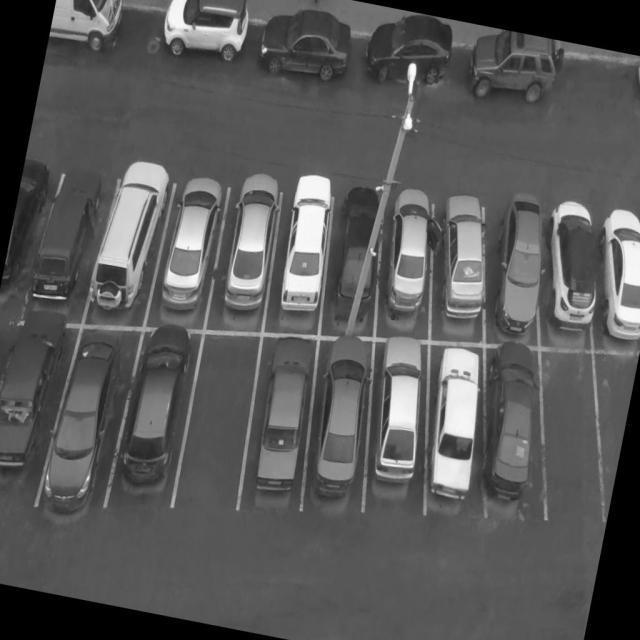space-empty: (172, 322, 270, 522), (520, 342, 615, 530), (565, 329, 640, 540)
space-occupied: (34, 312, 143, 537), (105, 308, 211, 532), (288, 325, 388, 540), (353, 325, 446, 533), (233, 323, 326, 526), (78, 150, 185, 326), (0, 300, 82, 523), (408, 331, 494, 541), (465, 340, 557, 525), (26, 158, 122, 324), (202, 162, 293, 337), (524, 186, 618, 355), (144, 168, 236, 322), (265, 162, 349, 325), (421, 181, 506, 341), (477, 191, 562, 350), (369, 178, 454, 336), (319, 176, 400, 334), (580, 192, 640, 352), (0, 166, 57, 324), (0, 311, 13, 508), (632, 210, 640, 327)
